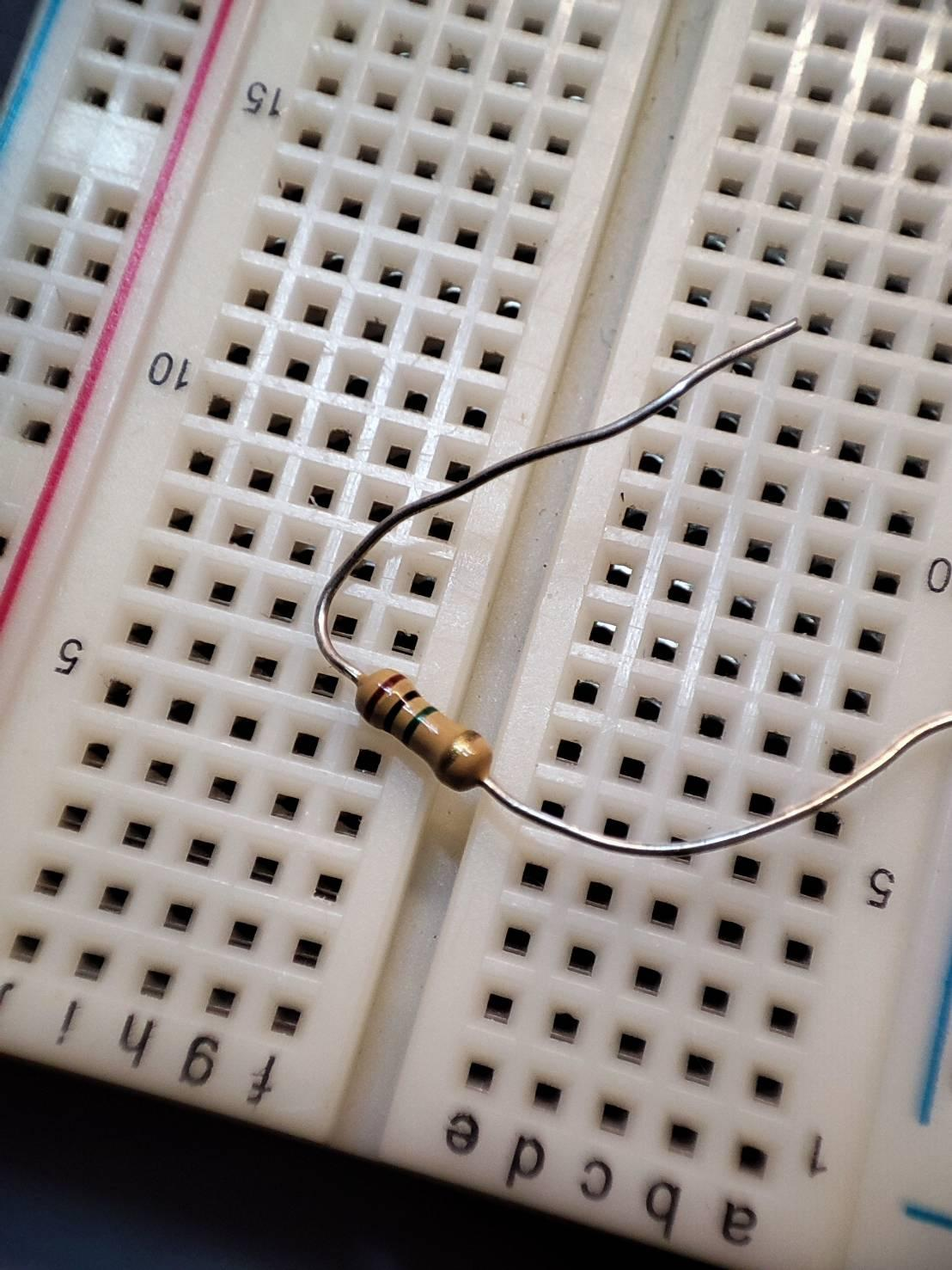resistor: (349, 660, 500, 791)
